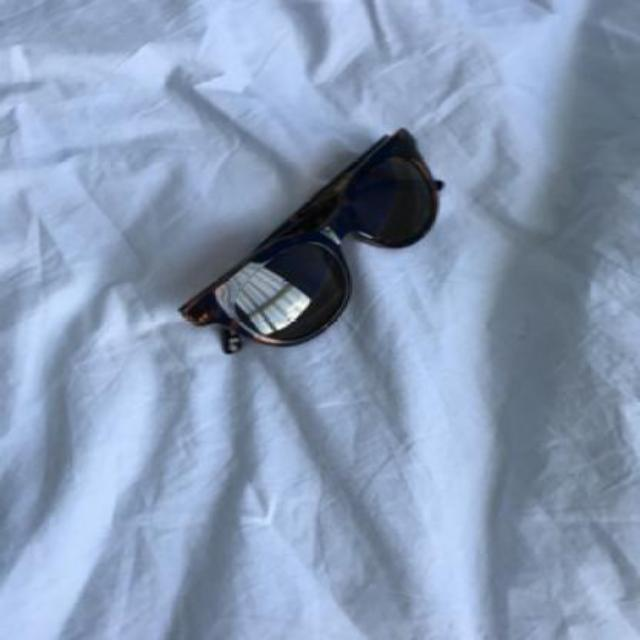glasses: (174, 128, 443, 354)
